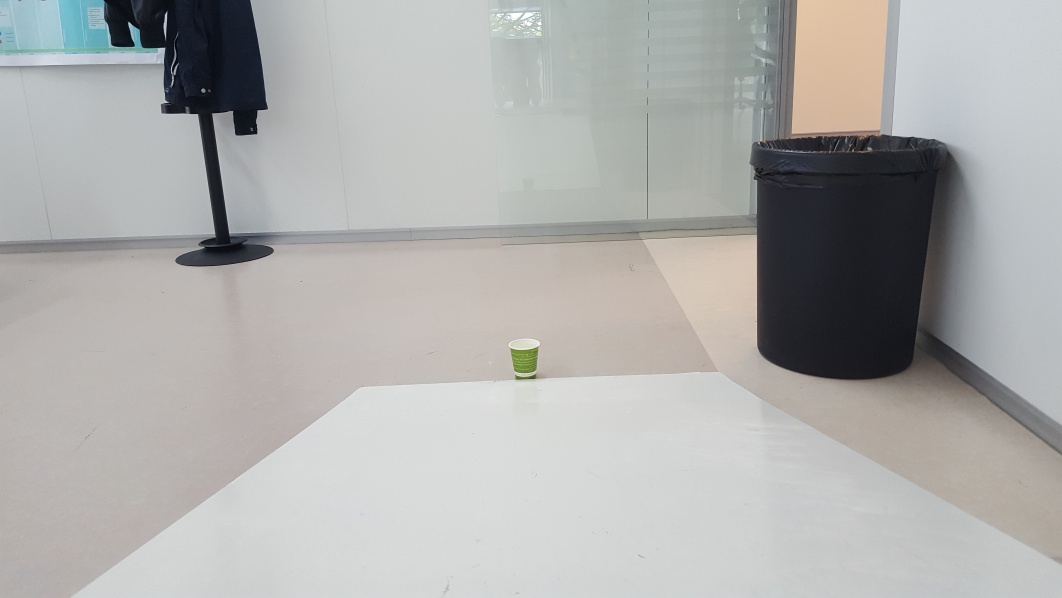cup: (505, 335, 544, 384)
